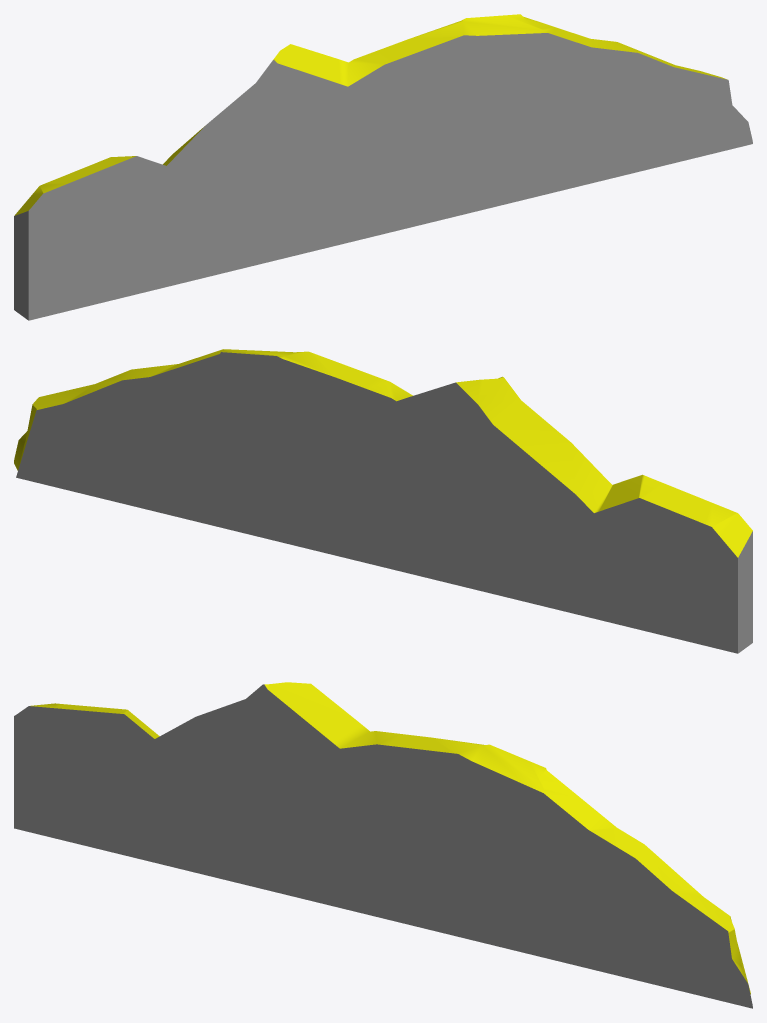
Rendered from Wall_Shard10.fbx.
3 views of the same model, one above another, from view 1: azimuth 30°, elevation 25°; view 2: azimuth 150°, elevation 25°; view 3: azimuth 330°, elevation 25° (orthographic). The views are drawn at different scales.
Parts seen in each view (by area): view 1: Wall_Shard10; view 2: Wall_Shard10; view 3: Wall_Shard10.
Boxes of the visible parts, bbox=[...] form: Wall_Shard10: bbox=[14, 14, 752, 320]; Wall_Shard10: bbox=[14, 349, 752, 653]; Wall_Shard10: bbox=[14, 682, 752, 1008].
Size of the model in its own units: 570 by 151 by 20.
